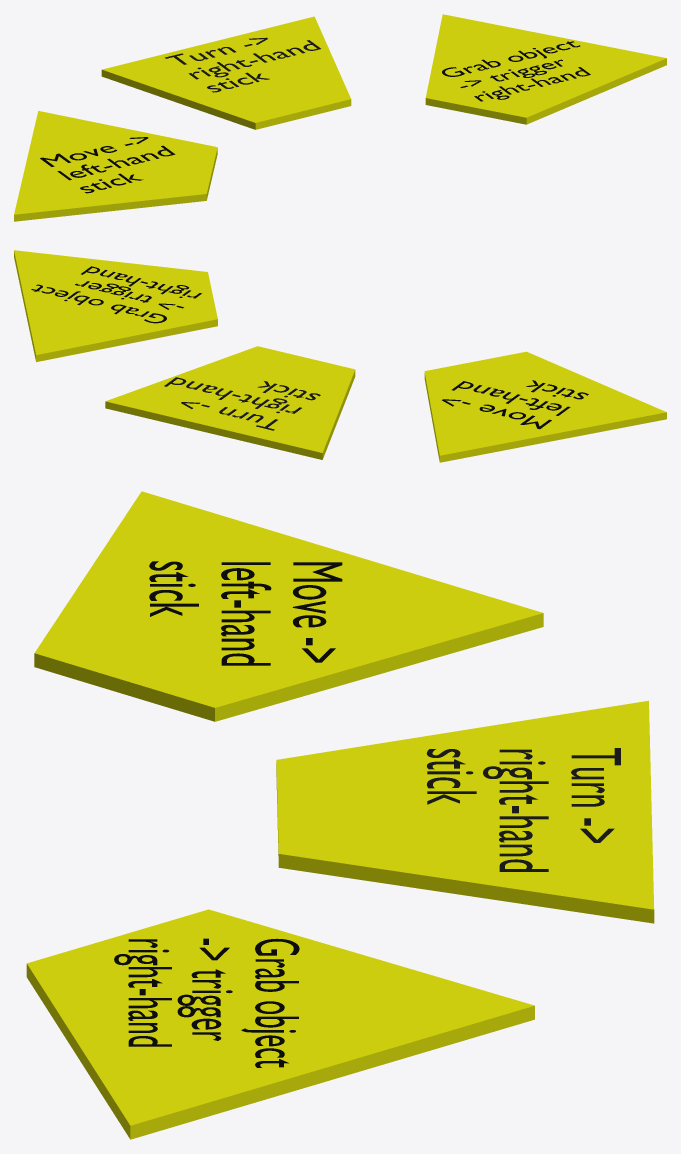
The model's file is info2.glb.
3 renders of one model, top to bottom at view 1: azimuth 30°, elevation 25°; view 2: azimuth 150°, elevation 25°; view 3: azimuth 270°, elevation 25°, orthographic. The views are drawn at different scales.
Parts seen in each view (by area): view 1: Circle.006, Circle.005, Circle.007, Text.001, Text; view 2: Circle.006, Circle.007, Circle.005, Text.001, Text; view 3: Circle.006, Circle.007, Circle.005, Text.001, Text.
Part boxes in pixels (x1,y1,x2,y2): Circle.006: (101, 16, 351, 129); Circle.005: (425, 14, 666, 124); Circle.007: (14, 111, 217, 221); Text.001: (442, 41, 590, 101); Text: (40, 137, 175, 193); Circle.006: (105, 346, 355, 459); Circle.007: (424, 351, 666, 462); Circle.005: (14, 250, 217, 361); Text.001: (31, 266, 201, 323); Text: (442, 380, 588, 429); Circle.006: (276, 700, 654, 923); Circle.007: (34, 491, 543, 721); Circle.005: (26, 909, 534, 1139); Text.001: (114, 938, 299, 1067); Text: (149, 561, 342, 665).
Size of the model in its own units: 4.62 by 0.0707 by 1.93.
